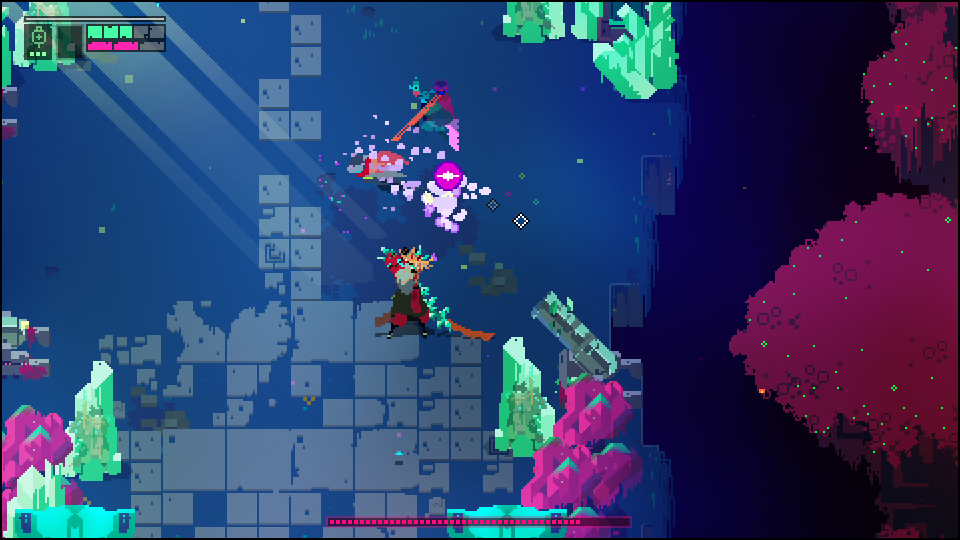hanged_man: (374, 245, 453, 338)
hanged_shot: (434, 161, 461, 191)
player: (347, 150, 411, 182)
